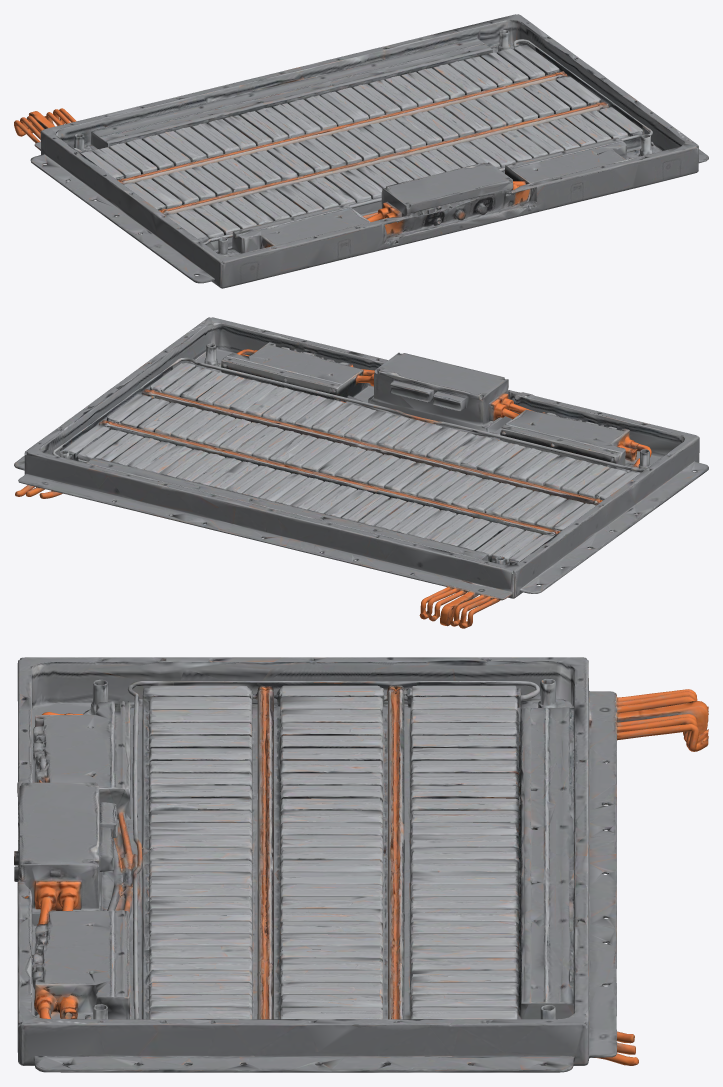
Rendered from baterai-lite.glb.
3 renders of one model, top to bottom at view 1: azimuth 30°, elevation 25°; view 2: azimuth 150°, elevation 25°; view 3: azimuth 270°, elevation 25°, orthographic. The views are drawn at different scales.
Bounding box in the file's own units: 1.9 × 0.1645 × 1.42.
Materials: 1 (1 with a texture image).
